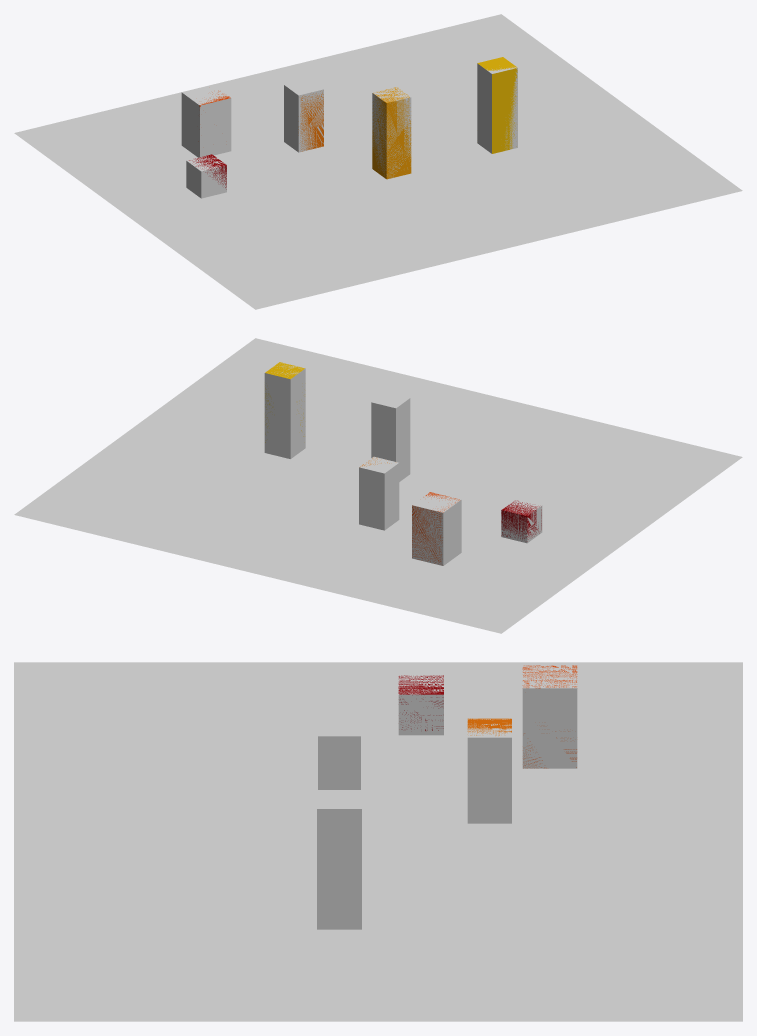
The model's file is Test_Map.glb.
3 views of the same model, one above another, from view 1: azimuth 30°, elevation 25°; view 2: azimuth 150°, elevation 25°; view 3: azimuth 270°, elevation 25° (orthographic). The views are drawn at different scales.
Visible parts, largest first — view 1: Plane.001, Cube.003, Cube.004, Cube.002; view 2: Plane.001, Cube, Cube.001; view 3: Plane.001, Cube.001, Cube, Cube.002.
Boxes of the visible parts, left/top/right/bottom form: Plane.001: left=14, top=14, right=742, bottom=309; Cube.003: left=372, top=87, right=411, bottom=179; Cube.004: left=477, top=57, right=517, bottom=153; Cube.002: left=298, top=91, right=323, bottom=151; Plane.001: left=14, top=338, right=742, bottom=633; Cube: left=412, top=492, right=459, bottom=563; Cube.001: left=501, top=500, right=541, bottom=541; Plane.001: left=14, top=662, right=742, bottom=1021; Cube.001: left=398, top=675, right=443, bottom=730; Cube: left=522, top=665, right=577, bottom=768; Cube.002: left=467, top=718, right=511, bottom=735.
Bounding box in the file's own units: 48.35 × 7.74 × 41.48.
